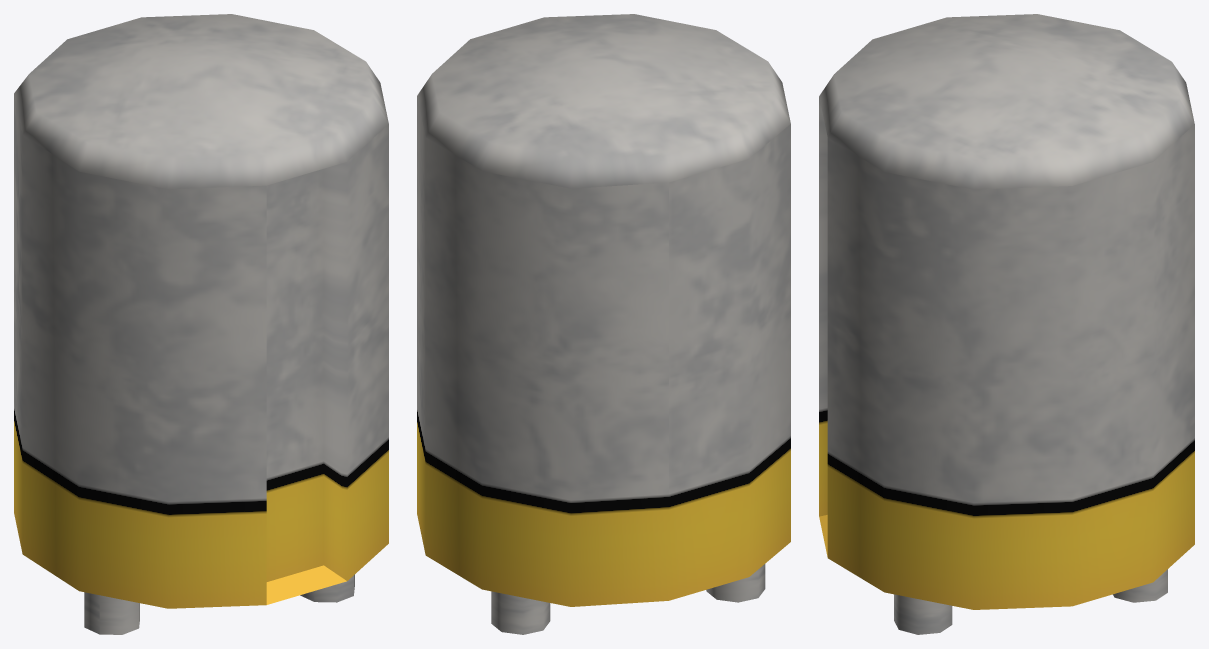
The model's file is Refuel_06.fbx.
3 renders of one model, left to right at view 1: azimuth 30°, elevation 25°; view 2: azimuth 150°, elevation 25°; view 3: azimuth 270°, elevation 25°, orthographic.
Parts seen in each view (by area): view 1: Refuel_06; view 2: Refuel_06; view 3: Refuel_06.
Part boxes in pixels (x1=…): Refuel_06: x1=14, y1=14, x2=388, y2=634; Refuel_06: x1=417, y1=14, x2=790, y2=634; Refuel_06: x1=819, y1=14, x2=1194, y2=634.
Size of the model in its own units: 14.39 by 21.94 by 14.39.
